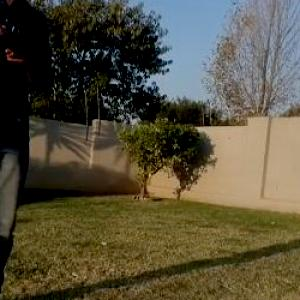follow: (0, 0, 54, 299)
